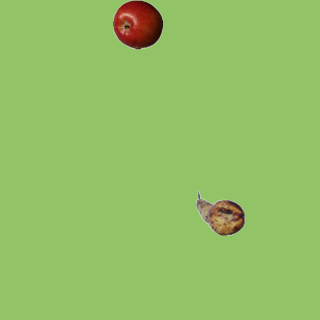Apple Braeburn: (112, 0, 162, 49)
Pear Abate: (195, 188, 245, 238)
